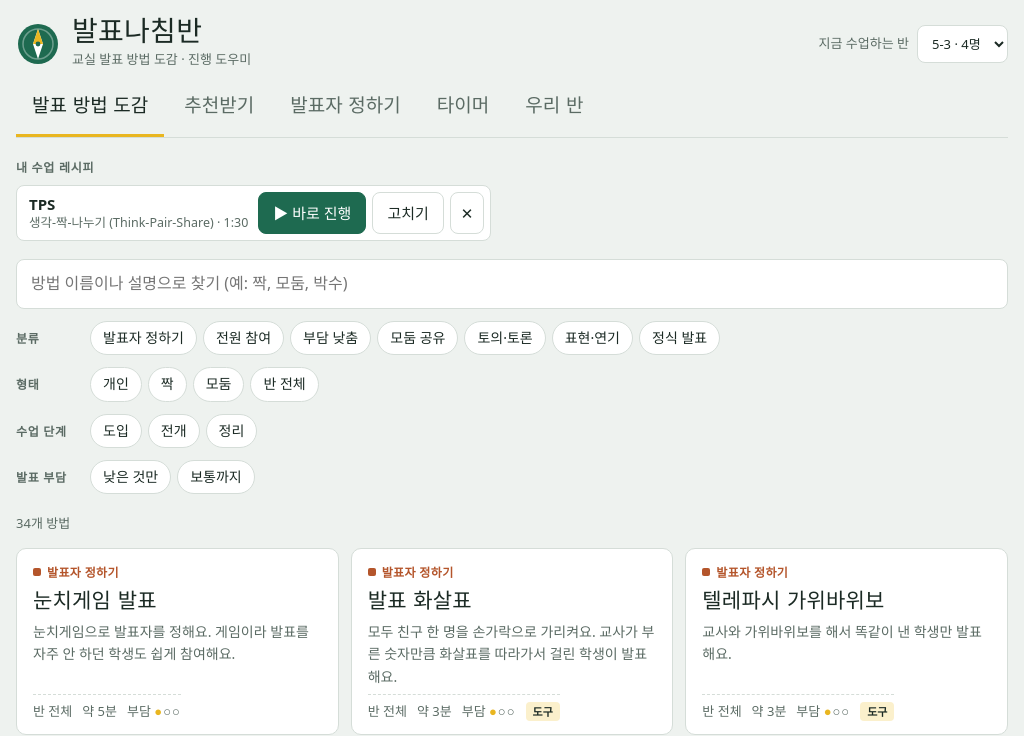
Test: 진행 화면 › 시간이 흐르고, 30초 전 알림과 종료음이 울린다
The image size is (1024, 736).
Click the button "▶ 바로 진행" at (312, 213), box [258, 192, 366, 234]
Wait 64600 ms
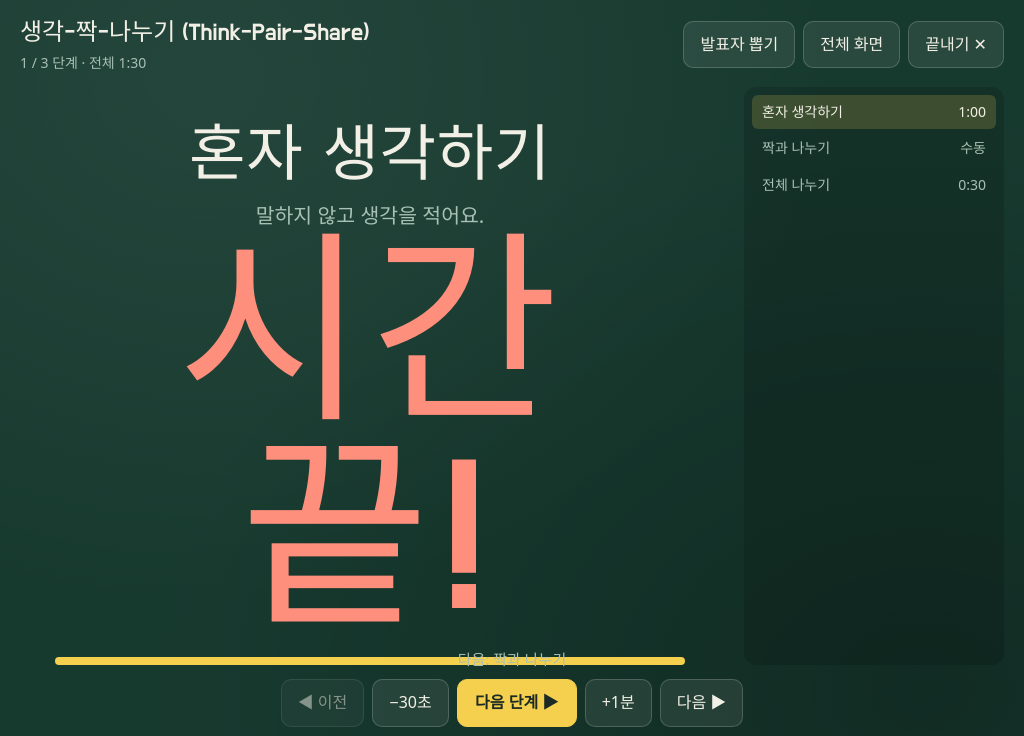
Expected: the text "시간 끝!" is shown, [178, 239, 562, 648]
Expected: the heading reads "혼자 생각하기", [189, 126, 551, 187]
